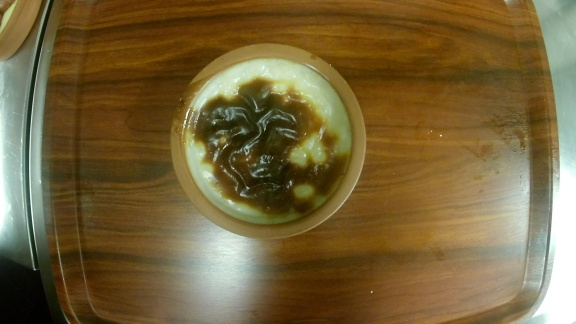sutlac: (170, 43, 367, 239)
